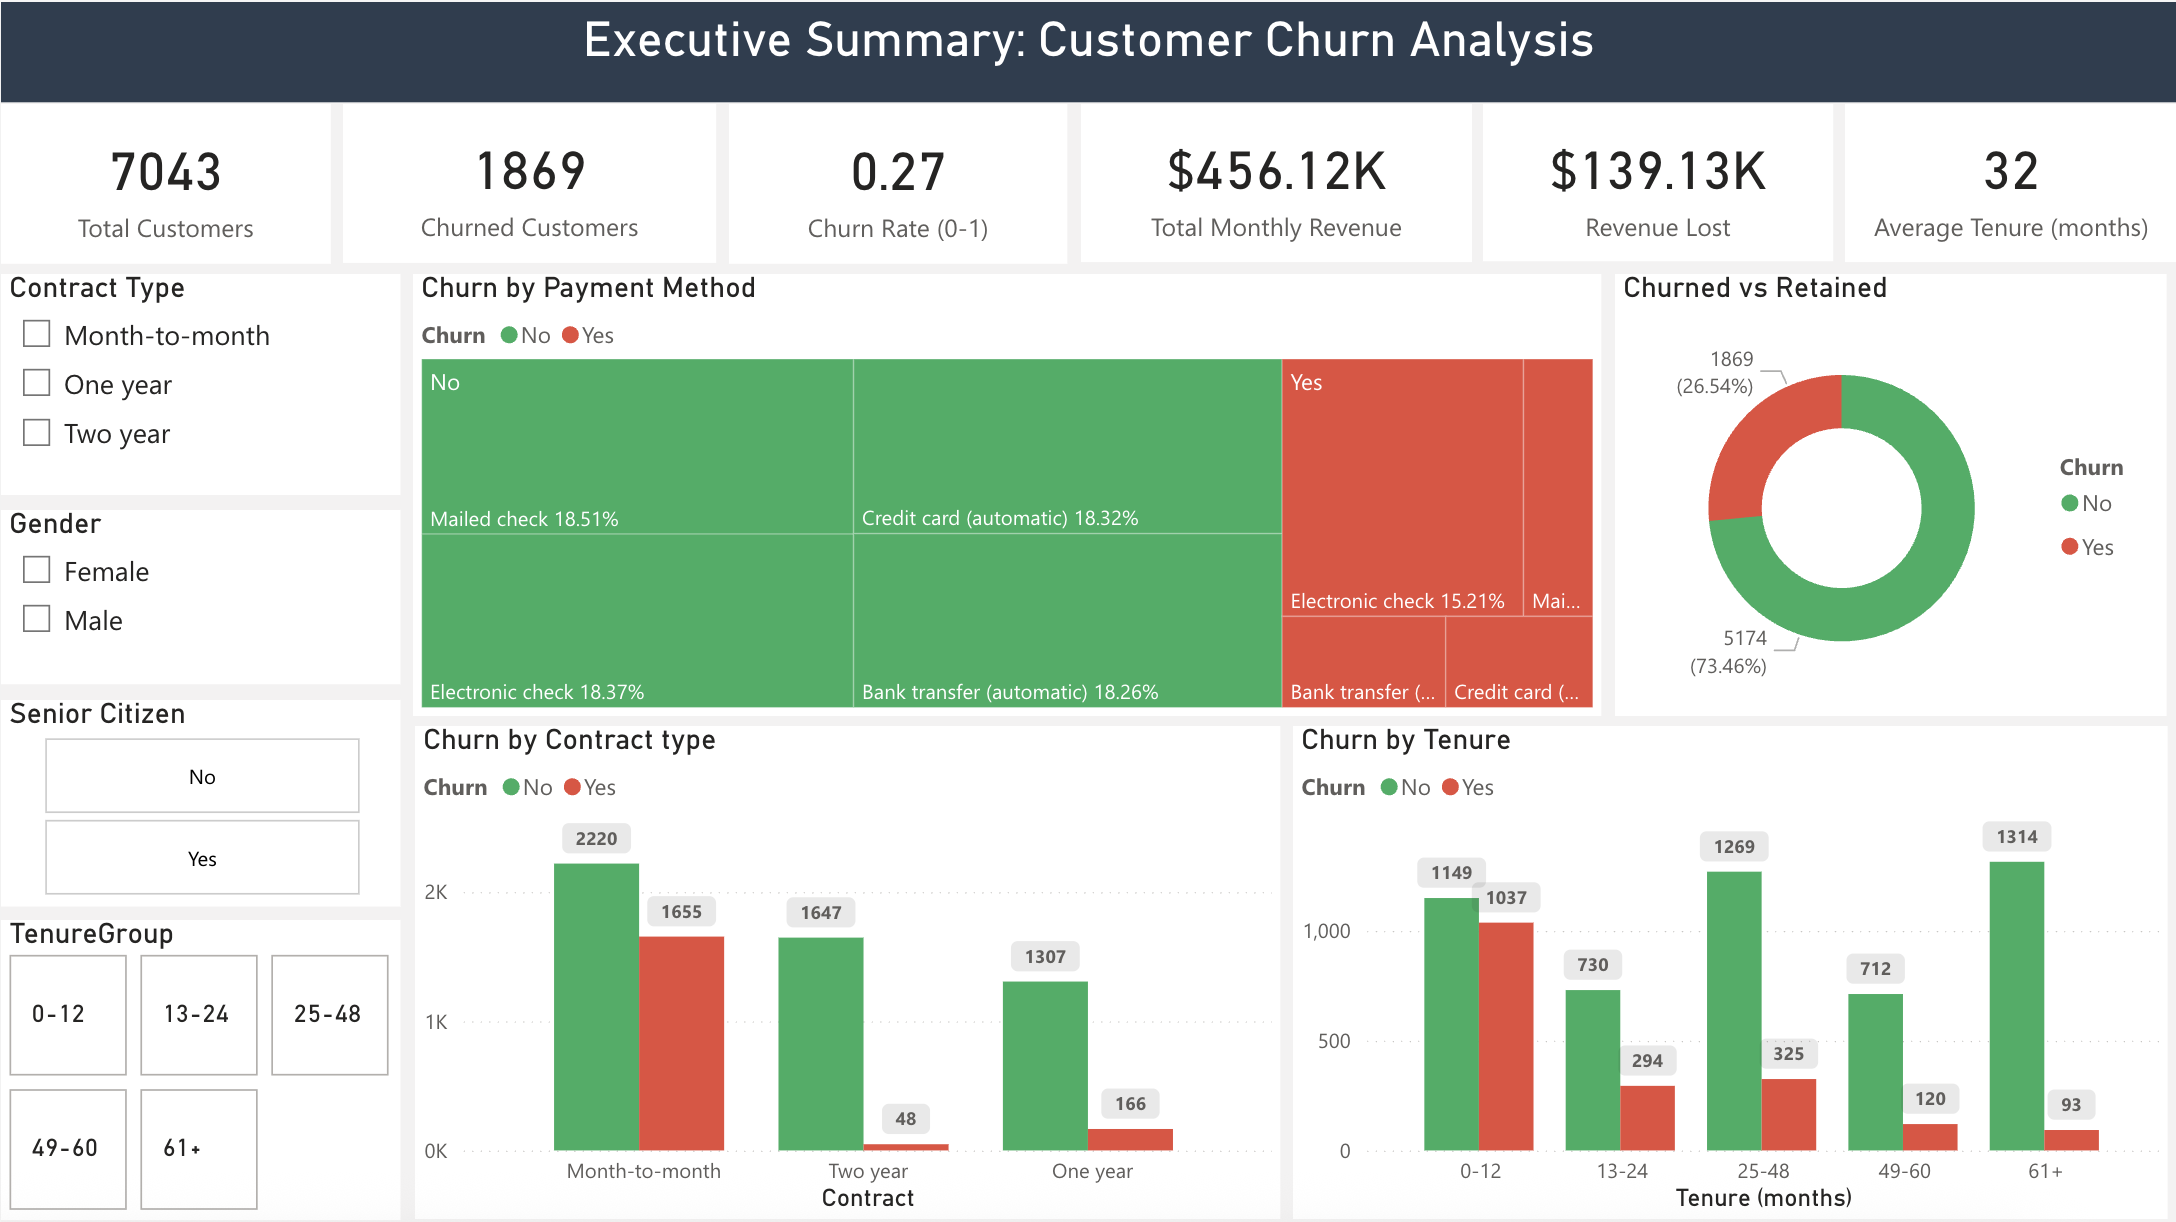

What the dashboard file says about the page in this screenshot:
{"tool":"powerbi","page":{"name":"Overview","canvas":[1280,720],"ordinal":0},"visuals":[{"type":"textbox","box":[0,0,1280,59.1],"z":0},{"type":"card","fields":{"Values":["Calculations.TotalCustomers"]},"box":[0,59.5,193.8,93.8],"z":1000},{"type":"donutChart","title":"Churned vs Retained","fields":{"Category":["CustomerChurnData.Churn"],"Y":["CountNonNull(CustomerChurnData.customerID)"]},"box":[949.2,160,324.6,260],"z":2000},{"type":"card","fields":{"Values":["Calculations.Churned Customers"]},"box":[201.4,59.5,219.5,93.3],"z":3000},{"type":"clusteredColumnChart","title":"Churn by Contract type","fields":{"Series":["CustomerChurnData.Churn"],"Y":["CountNonNull(CustomerChurnData.customerID)"],"Category":["CustomerChurnData.Contract"]},"box":[243.1,425.4,509.2,290],"z":4000},{"type":"card","fields":{"Values":["Calculations.Churn Rate"]},"box":[428.6,59.5,199.1,93.8],"z":5000},{"type":"clusteredColumnChart","title":"Churn by Tenure","fields":{"Series":["CustomerChurnData.Churn"],"Y":["CountNonNull(CustomerChurnData.customerID)"],"Category":["CustomerChurnData.TenureGroup"]},"box":[760,425.4,514.6,290],"z":6000},{"type":"card","fields":{"Values":["Calculations.Total Monthly Revenue"]},"box":[634.8,59.5,230,92.9],"z":7000},{"type":"treemap","title":"Churn by Payment Method","fields":{"Values":["CountNonNull(CustomerChurnData.customerID)"],"Group":["CustomerChurnData.Churn"],"Details":["CustomerChurnData.PaymentMethod"]},"box":[242.7,160,699.1,260],"z":8000},{"type":"card","fields":{"Values":["Calculations.Revenue Lost"]},"box":[871.8,59.5,205.9,92.7],"z":9000},{"type":"slicer","title":"Contract Type","fields":{"Values":["CustomerChurnData.Contract"]},"box":[0,160,235,130],"z":10000},{"type":"card","fields":{"Values":["Calculations.Average Tenure"]},"box":[1084.3,59.5,195.7,92.9],"z":11000},{"type":"advancedSlicerVisual","fields":{"Values":["CustomerChurnData.TenureGroup"]},"box":[0,540,235,176.2],"z":12000},{"type":"slicer","title":"Gender","fields":{"Values":["CustomerChurnData.gender"]},"box":[0,298.8,235,102.5],"z":13000},{"type":"slicer","title":"Senior Citizen","fields":{"Values":["CustomerChurnData.SeniorCitizen"]},"box":[0,410,235,121.2],"z":14000}]}

Visuals, with their boxes in screenshot pixels (x1, y1, x2, y2), scaled from the page's 1280x720 canvas onto the 2176x1222 screenshot:
textbox: x1=0 y1=0 x2=2175 y2=100
card - Calculations.TotalCustomers: x1=0 y1=101 x2=329 y2=260
"Churned vs Retained" donutChart: x1=1614 y1=272 x2=2165 y2=713
card - Calculations.Churned Customers: x1=342 y1=101 x2=716 y2=259
"Churn by Contract type" clusteredColumnChart: x1=413 y1=722 x2=1279 y2=1214
card - Calculations.Churn Rate: x1=729 y1=101 x2=1067 y2=260
"Churn by Tenure" clusteredColumnChart: x1=1292 y1=722 x2=2167 y2=1214
card - Calculations.Total Monthly Revenue: x1=1079 y1=101 x2=1470 y2=259
"Churn by Payment Method" treemap: x1=413 y1=272 x2=1601 y2=713
card - Calculations.Revenue Lost: x1=1482 y1=101 x2=1832 y2=258
"Contract Type" slicer: x1=0 y1=272 x2=400 y2=492
card - Calculations.Average Tenure: x1=1843 y1=101 x2=2175 y2=259
advancedSlicerVisual - CustomerChurnData.TenureGroup: x1=0 y1=916 x2=400 y2=1216
"Gender" slicer: x1=0 y1=507 x2=400 y2=681
"Senior Citizen" slicer: x1=0 y1=696 x2=400 y2=902
